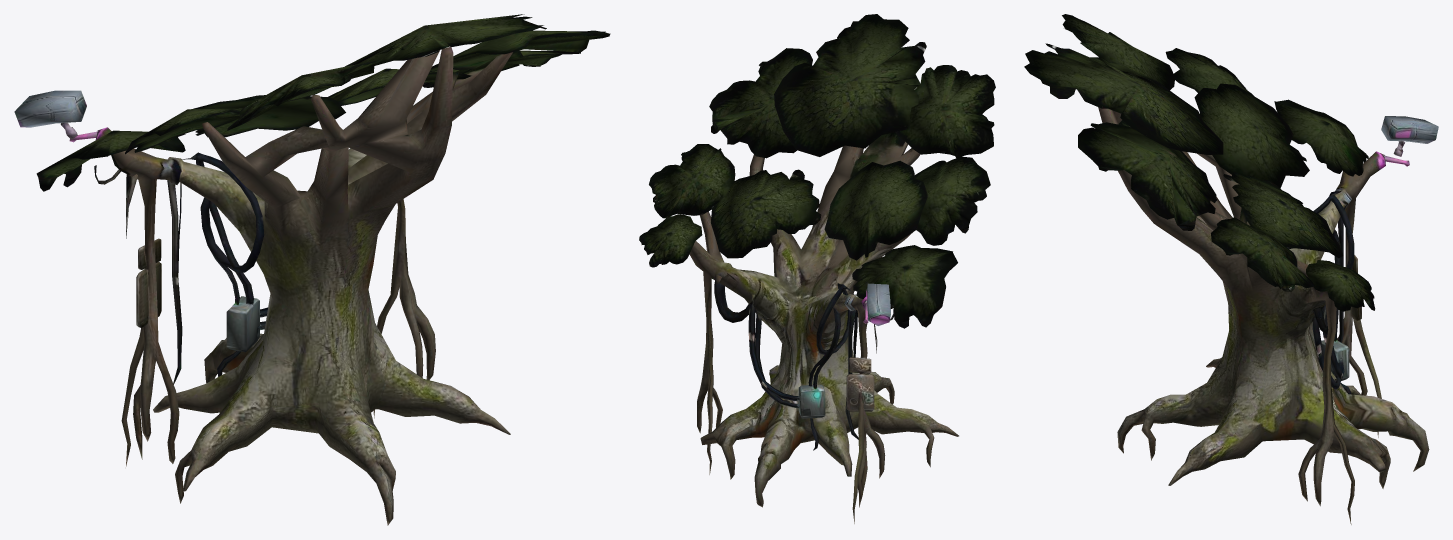
The model's file is banyan_tree.glb.
3 views of the same model, side by side, from view 1: azimuth 30°, elevation 25°; view 2: azimuth 150°, elevation 25°; view 3: azimuth 270°, elevation 25° (orthographic). The views are drawn at different scales.
Visible parts, largest first — view 1: Body; view 2: Body; view 3: Body.
Part boxes in pixels (box(x1,y1,x2,y2)): Body: box(14, 14, 610, 525); Body: box(639, 14, 995, 523); Body: box(1024, 14, 1438, 524).
Size of the model in its own units: 10.92 by 12 by 10.12.
1 material, 1 textured.
